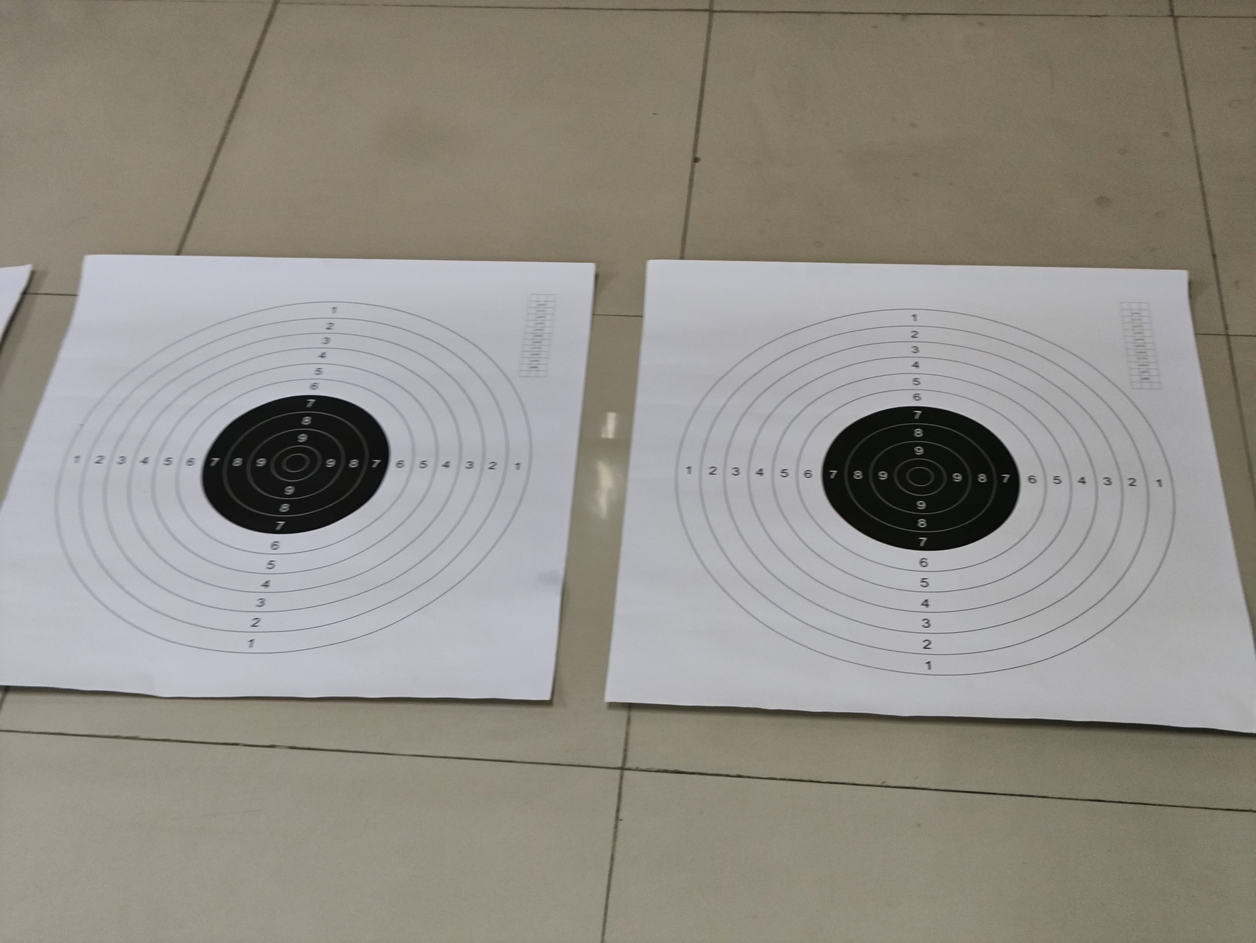target: (655, 272, 1201, 703), (43, 274, 546, 671)
